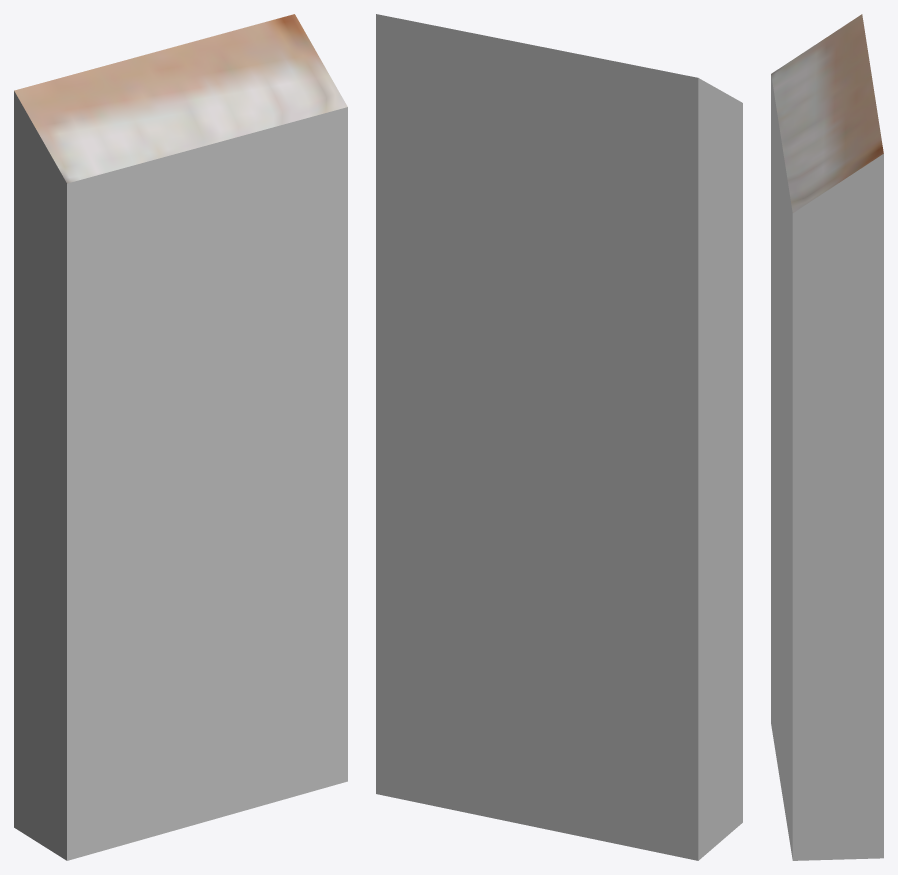
Rendered from DEBW_0010007THX4.gltf.
3 renders of one model, left to right at view 1: azimuth 30°, elevation 25°; view 2: azimuth 150°, elevation 25°; view 3: azimuth 270°, elevation 25°, orthographic. The views are drawn at different scales.
Parts seen in each view (by area): view 1: Z_UP; view 2: Z_UP; view 3: Z_UP.
Part boxes in pixels (x1,y1,x2,y2): Z_UP: [14, 14, 347, 860]; Z_UP: [376, 14, 742, 860]; Z_UP: [771, 14, 883, 860].
Bounding box in the file's own units: 6.41 × 15.17 × 2.19.
Materials: 2 (1 with a texture image).
